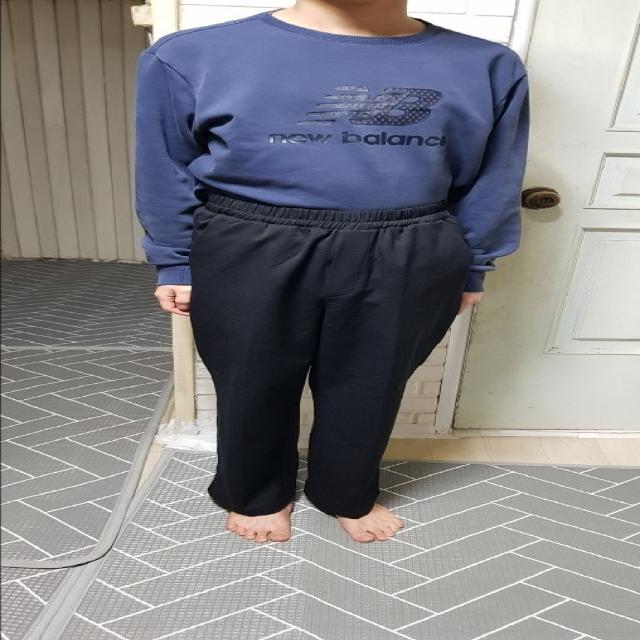mtm: (132, 9, 541, 283)
trainingpants: (184, 196, 467, 521)
